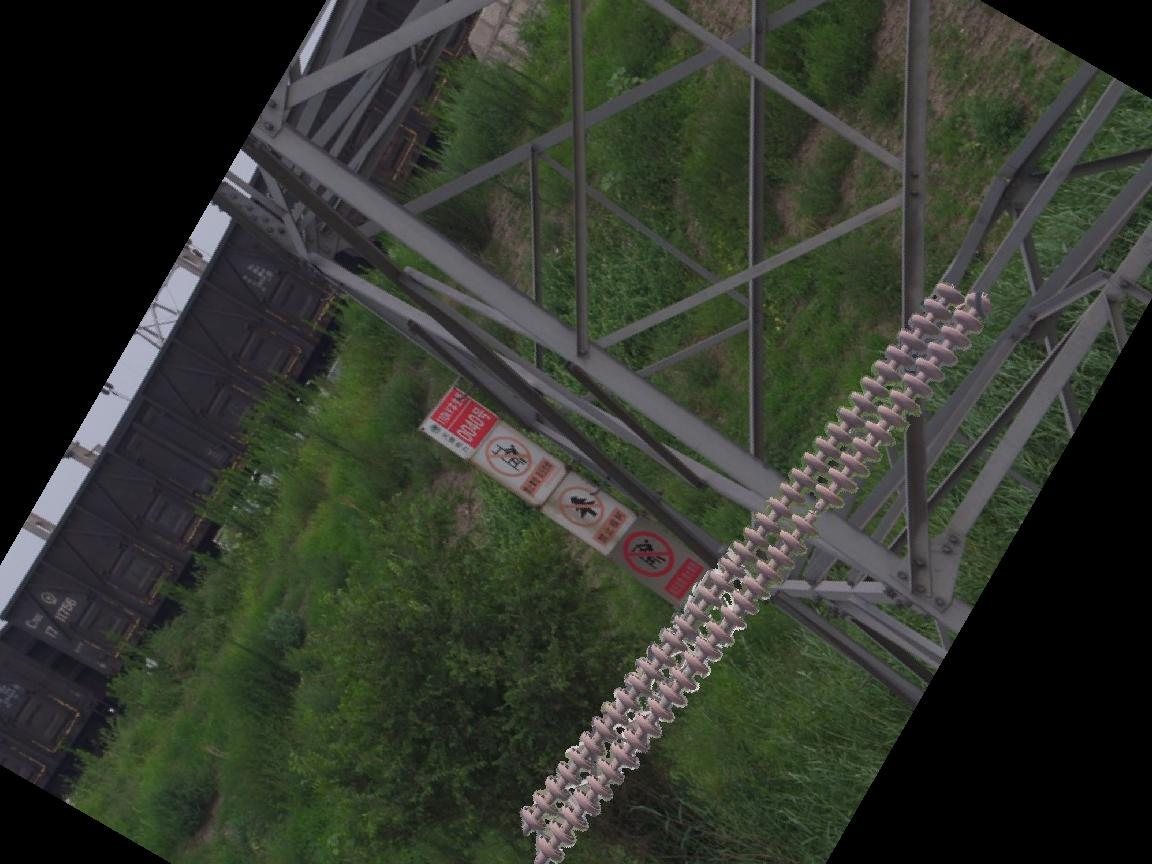insulator: (511, 269, 995, 860)
insulator_stringdrop: (788, 481, 848, 540)
